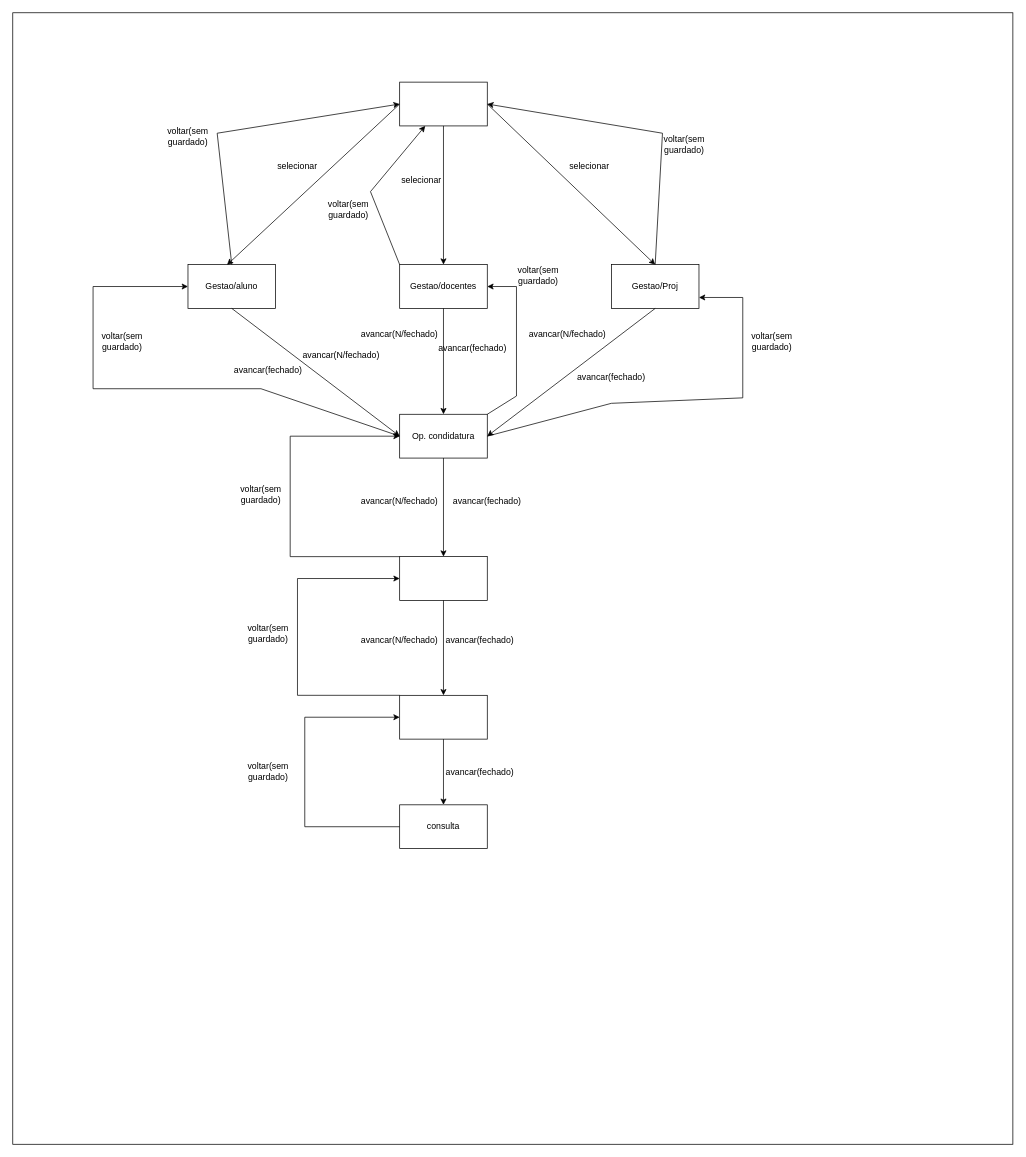
The diagram is 1026 pixels wide and 1157 high, and some of its shapes have lost their labels. Here are the shapes that lost their labels. From the top down, the centre of each, then its label:
At [443,103]: "Config".
At [443,578]: "Atribuir proposta".
At [443,717]: "atribuir orientador".
